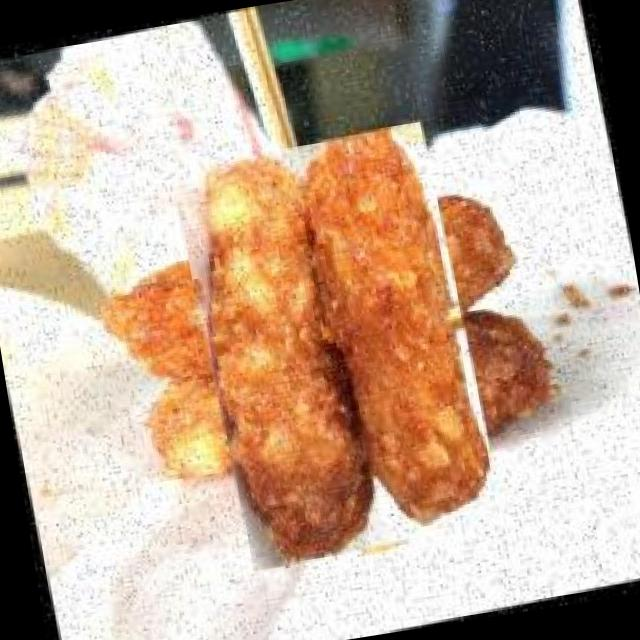triangle_hash_brown: (140, 148, 538, 546)
